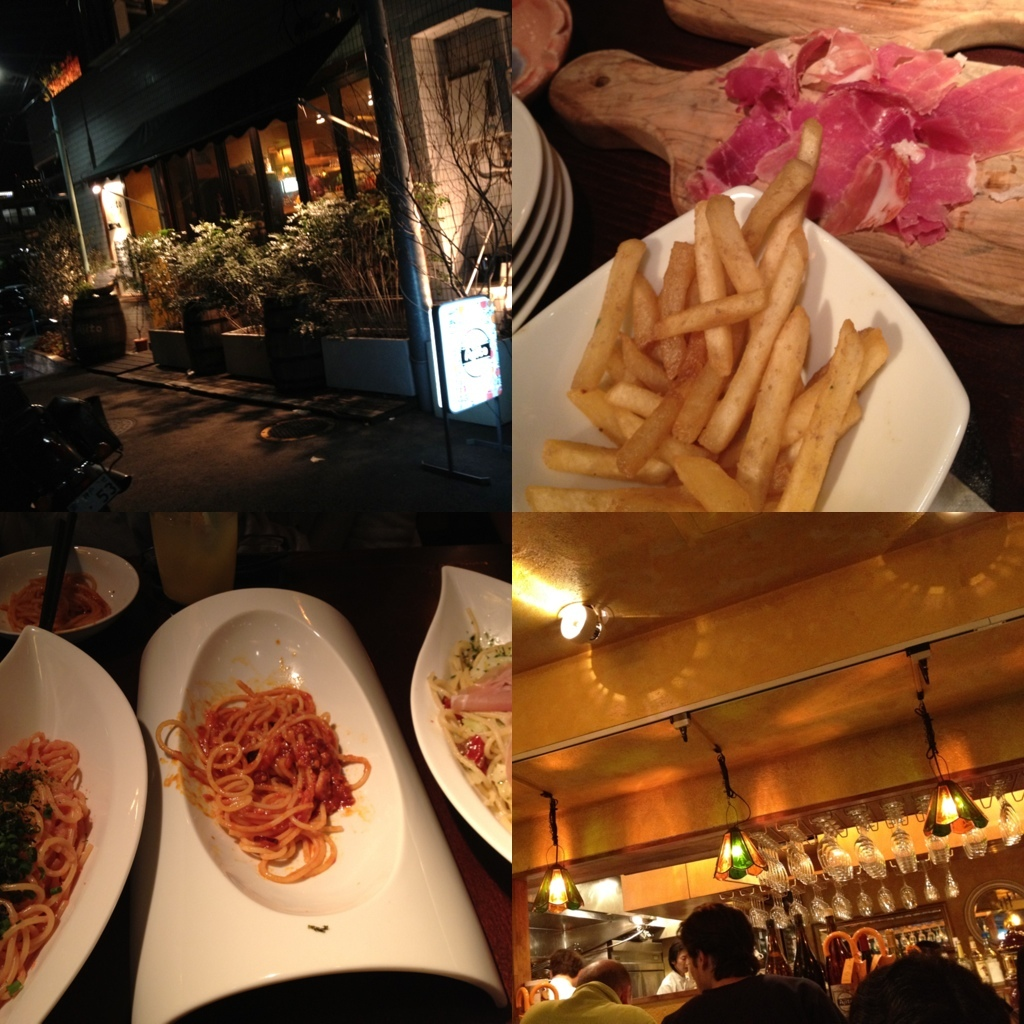French fries: (558, 152, 906, 504)
